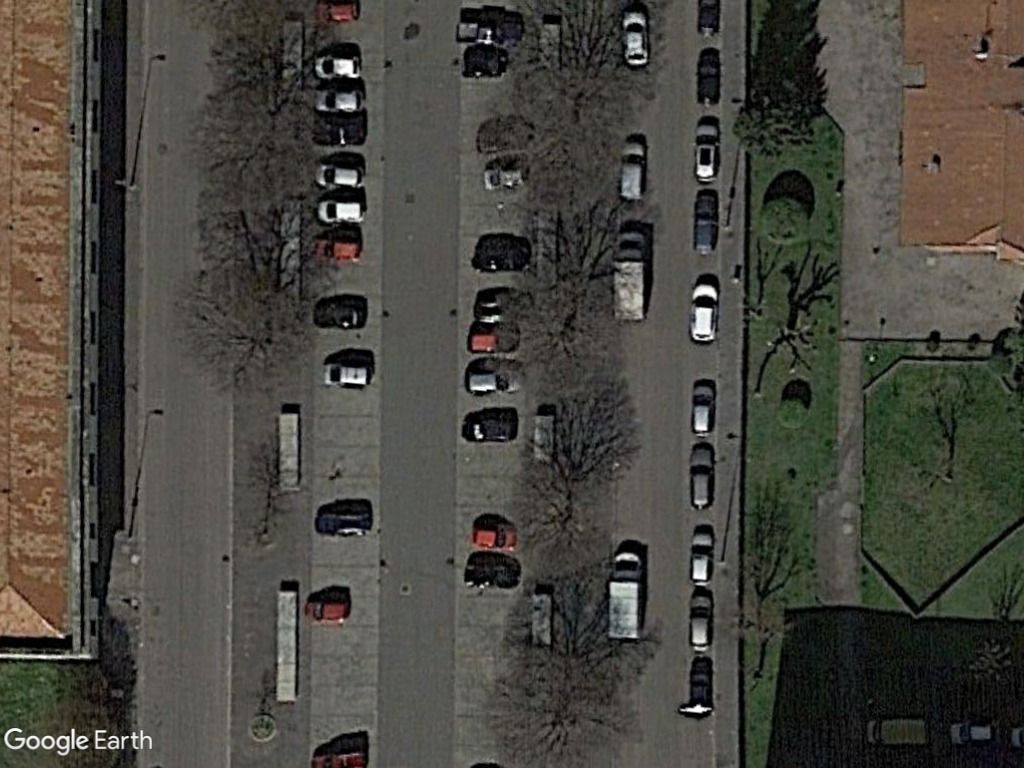car: (689, 117, 727, 185), (687, 275, 721, 349), (688, 189, 724, 255), (619, 6, 655, 70), (616, 138, 649, 205), (462, 361, 519, 399), (299, 593, 356, 630), (687, 442, 716, 512), (687, 589, 717, 655), (687, 380, 720, 438), (309, 158, 366, 191), (312, 196, 373, 226), (686, 527, 716, 588), (312, 81, 367, 114), (320, 358, 374, 391), (469, 520, 523, 553), (311, 52, 366, 80)
truck: (607, 226, 655, 326), (605, 550, 648, 648)
